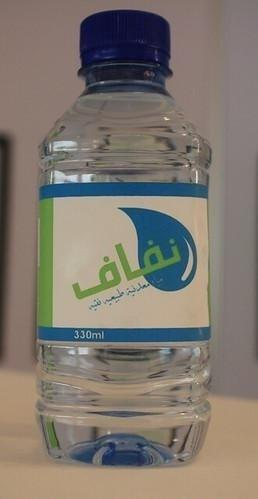bottle-plastic: (33, 7, 220, 475)
